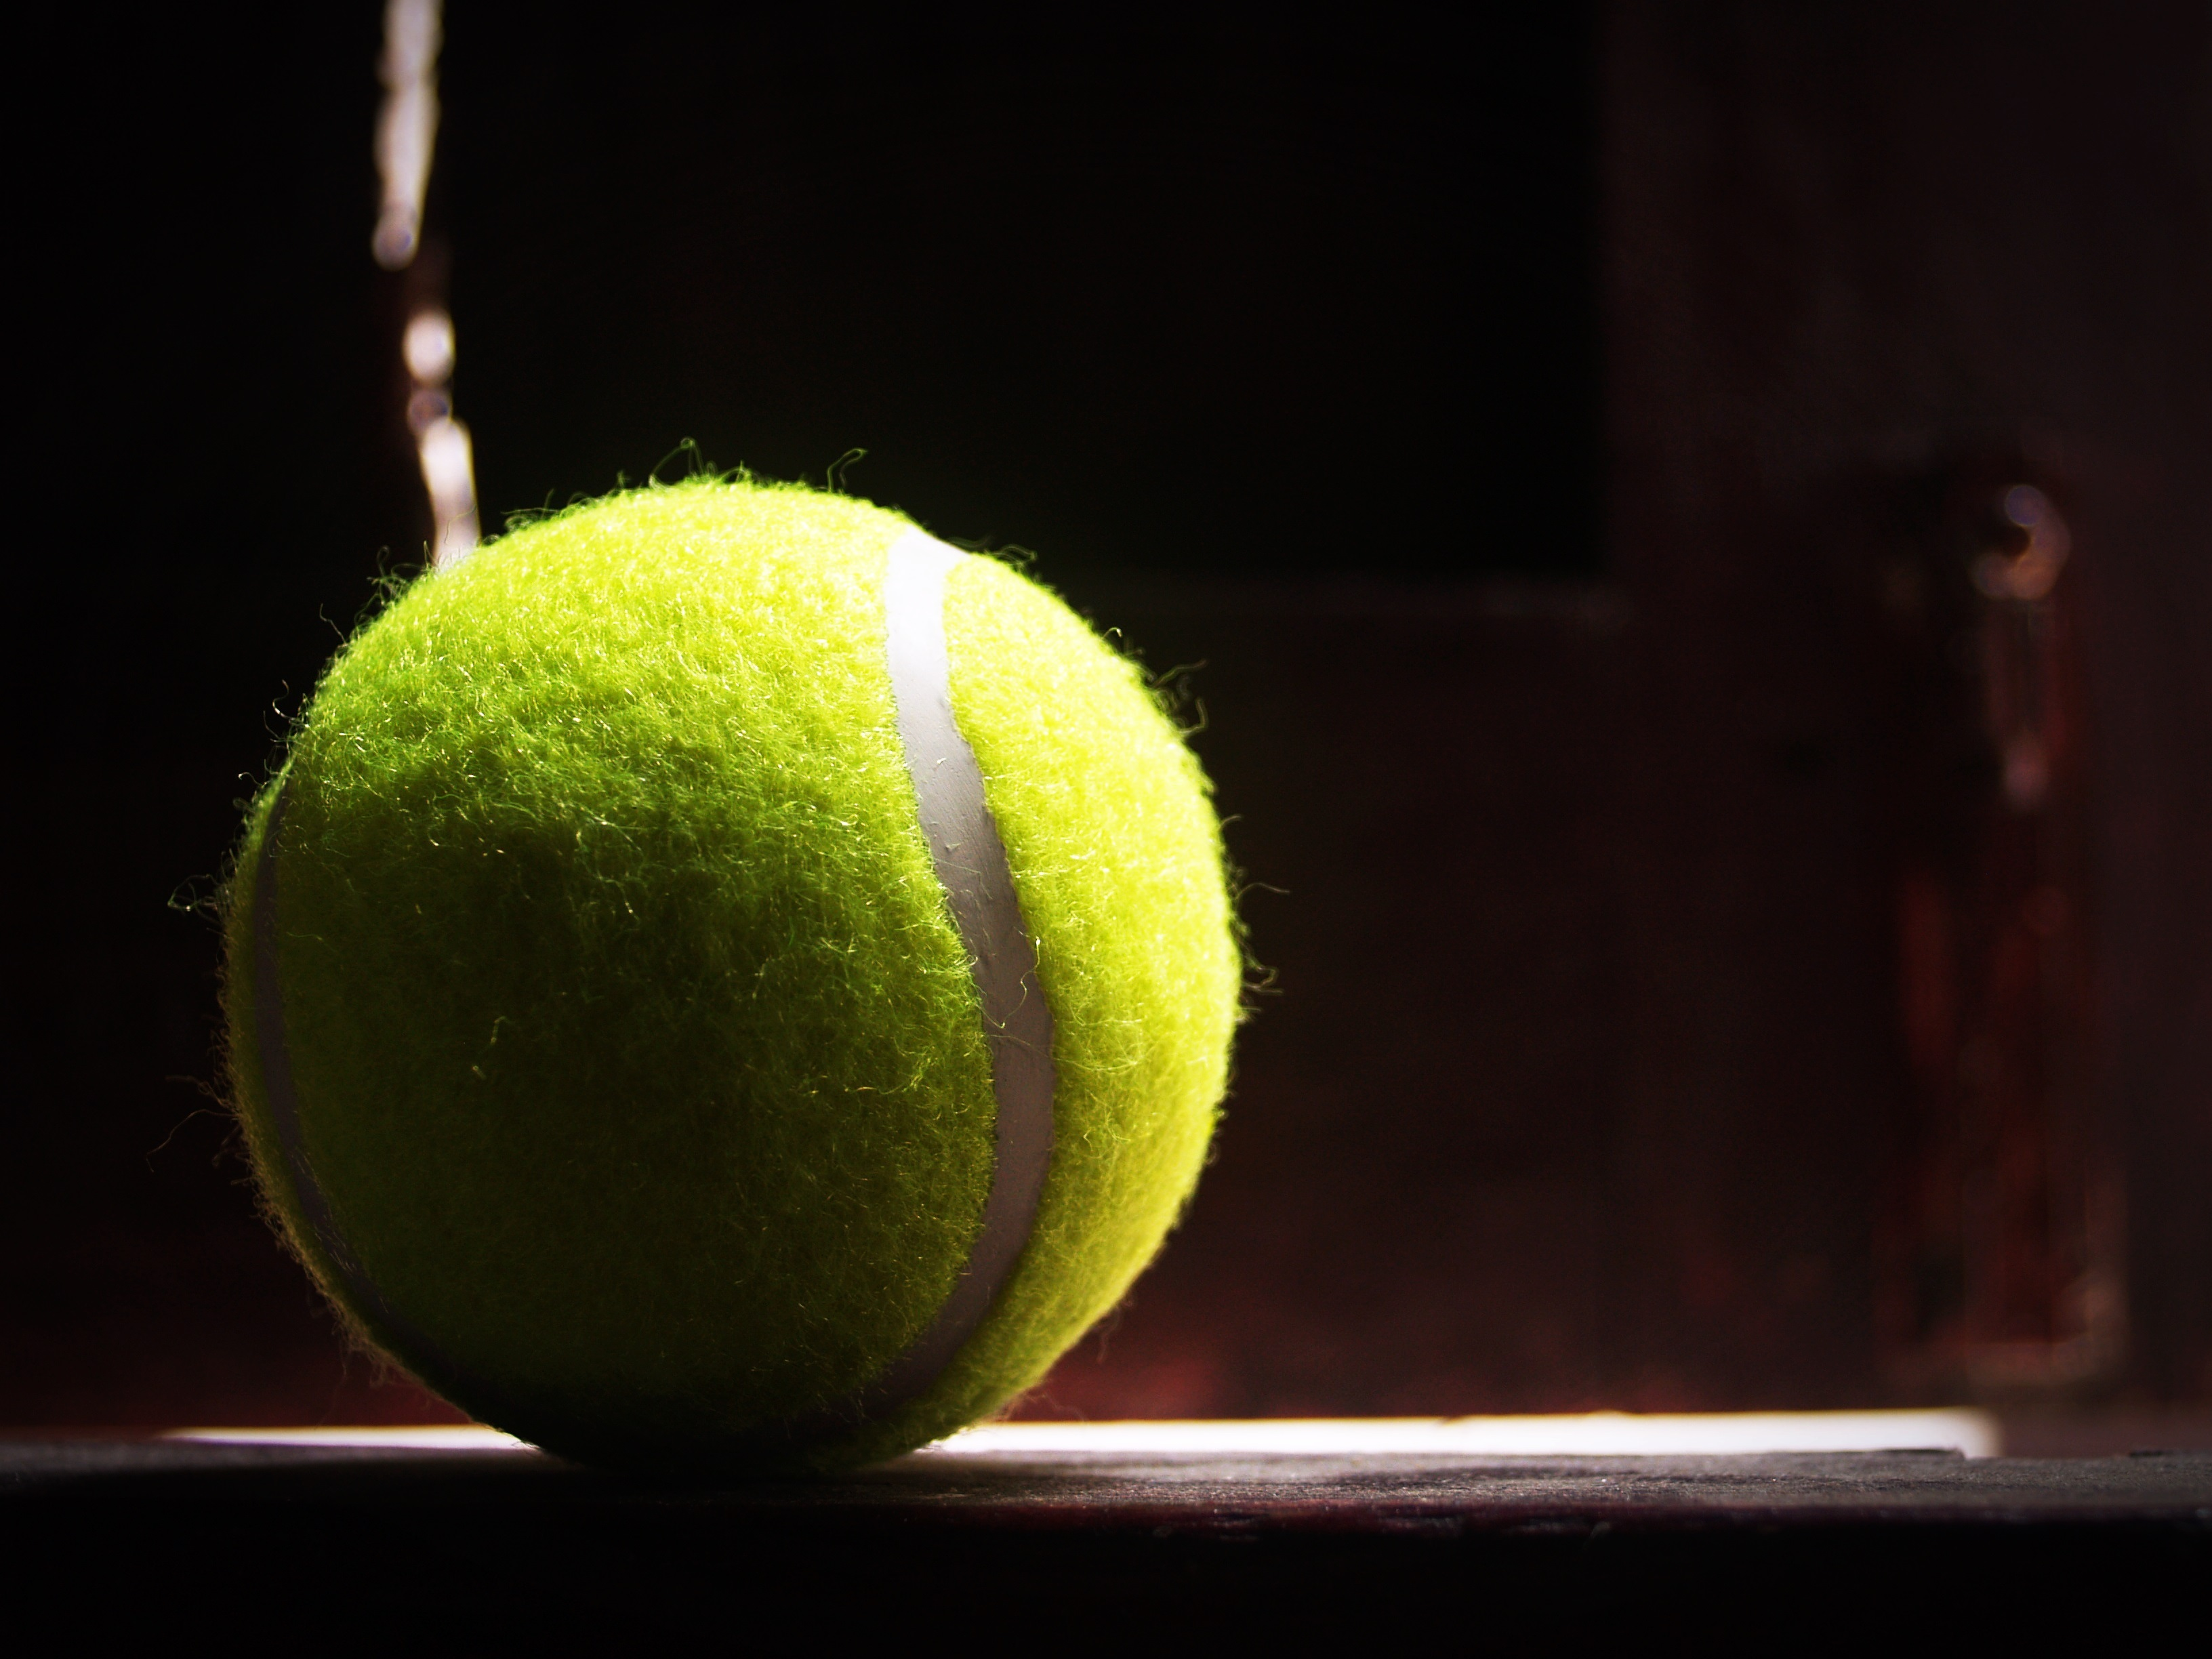tennis_ball: (193, 470, 1256, 1471)
